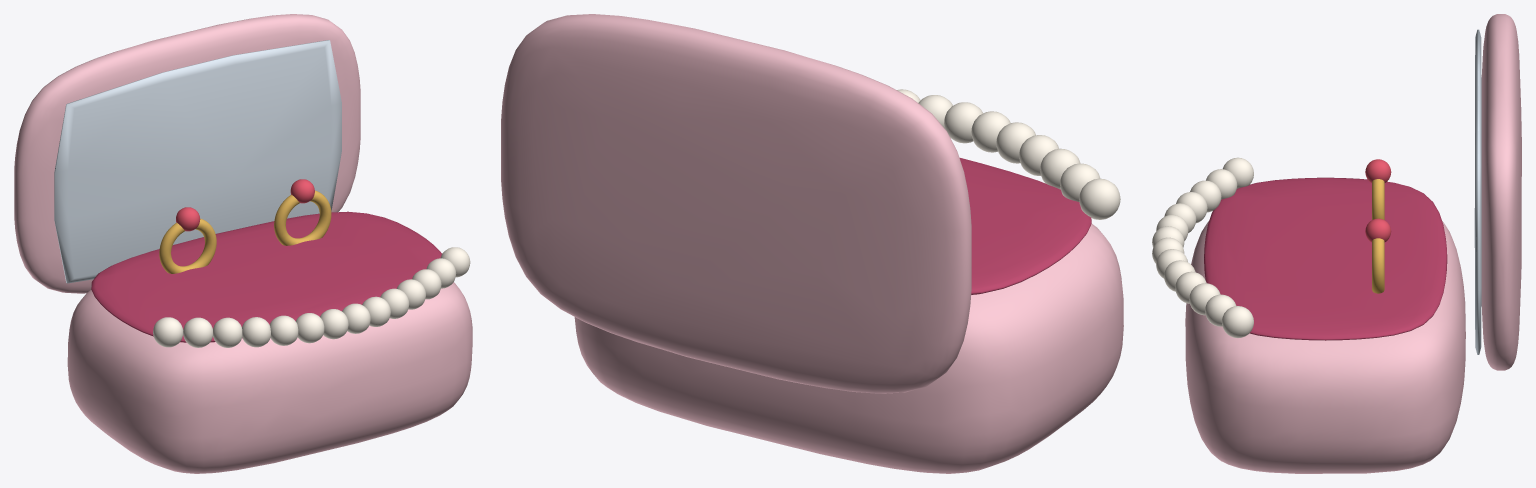
File: deco_joyero.glb
3 renders of one model, left to right at view 1: azimuth 30°, elevation 25°; view 2: azimuth 150°, elevation 25°; view 3: azimuth 270°, elevation 25°, orthographic. The views are drawn at different scales.
Visible parts, largest first — view 1: caja joyero.001, espejito joyero.001, terciopelo.001, tapa joyero.001, anillo 0.001, anillo 1.001, perla collar 1.001, perla collar 0.001, perla collar 2.001, perla collar 3.001, perla collar 4.001, perla collar 5.001 (+8 smaller); view 2: tapa joyero.001, caja joyero.001, terciopelo.001, perla collar 0.001, perla collar 6.001, perla collar 5.001, perla collar 4.001, perla collar 3.001, perla collar 2.001, perla collar 1.001; view 3: caja joyero.001, terciopelo.001, tapa joyero.001, espejito joyero.001, perla collar 13.001, anillo 1.001, perla collar 12.001, perla collar 11.001, perla collar 0.001, perla collar 1.001, perla collar 10.001, perla collar 2.001 (+10 smaller).
Part boxes in pixels (x1,y1,x2,y2): caja joyero.001: (67,282,472,473); espejito joyero.001: (54,40,341,283); terciopelo.001: (91,211,441,342); tapa joyero.001: (14,14,360,293); anillo 0.001: (159,218,216,273); anillo 1.001: (274,190,331,245); perla collar 1.001: (183,317,212,347); perla collar 0.001: (153,317,183,347); perla collar 2.001: (213,317,242,347); perla collar 3.001: (242,317,270,347); perla collar 4.001: (270,315,298,345); perla collar 5.001: (296,313,324,343); tapa joyero.001: (501,14,971,393); caja joyero.001: (574,224,1123,473); terciopelo.001: (959,158,1091,294); perla collar 0.001: (1079,178,1120,219); perla collar 6.001: (944,102,982,143); perla collar 5.001: (971,111,1010,152); perla collar 4.001: (996,122,1035,163); perla collar 3.001: (1019,135,1058,175); perla collar 2.001: (1040,148,1080,189); perla collar 1.001: (1060,163,1100,201); caja joyero.001: (1185,221,1465,473); terciopelo.001: (1204,177,1447,340); tapa joyero.001: (1481,14,1521,370); espejito joyero.001: (1474,29,1481,354); perla collar 13.001: (1221,306,1253,337); anillo 1.001: (1372,238,1384,293); perla collar 12.001: (1205,294,1236,326); perla collar 11.001: (1189,283,1220,315); perla collar 0.001: (1222,157,1253,188); perla collar 1.001: (1206,169,1237,199); perla collar 10.001: (1175,271,1206,303); perla collar 2.001: (1190,180,1221,212).
Size of the model in its own units: 0.2398 by 0.2199 by 0.2108.
